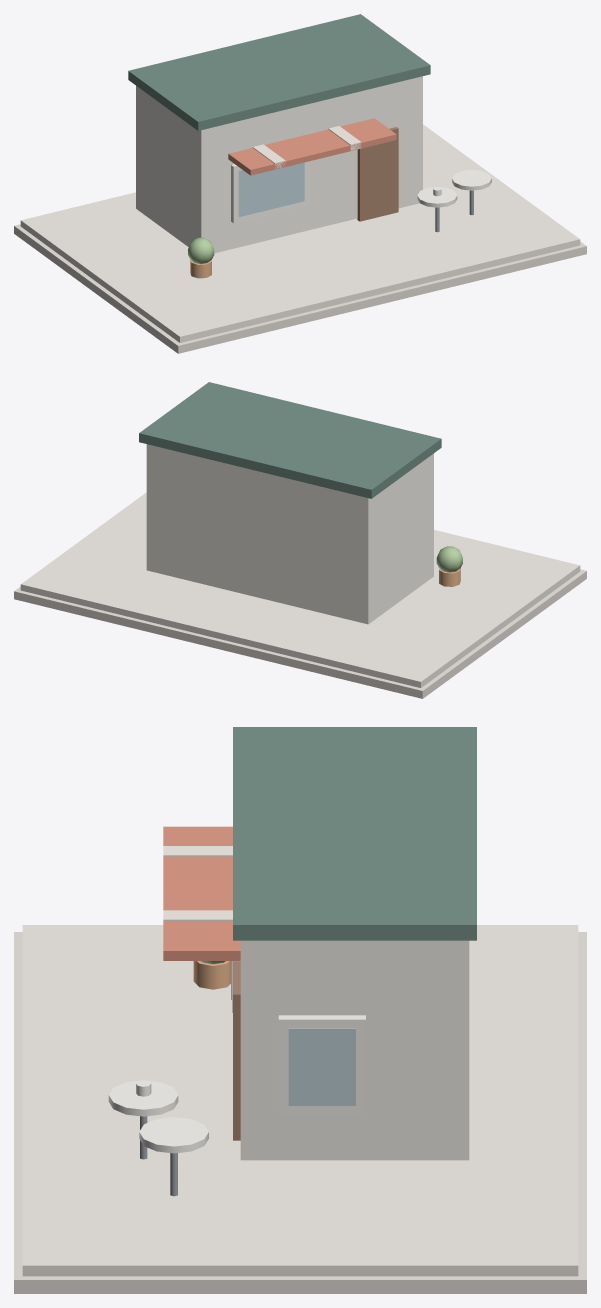
The model's file is cafe.glb.
The picture shows the model from 3 angles, top to bottom: view 1: azimuth 30°, elevation 25°; view 2: azimuth 150°, elevation 25°; view 3: azimuth 270°, elevation 25°; orthographic projection. The views are drawn at different scales.
Size of the model in its own units: 3.78 by 1.47 by 2.63.
